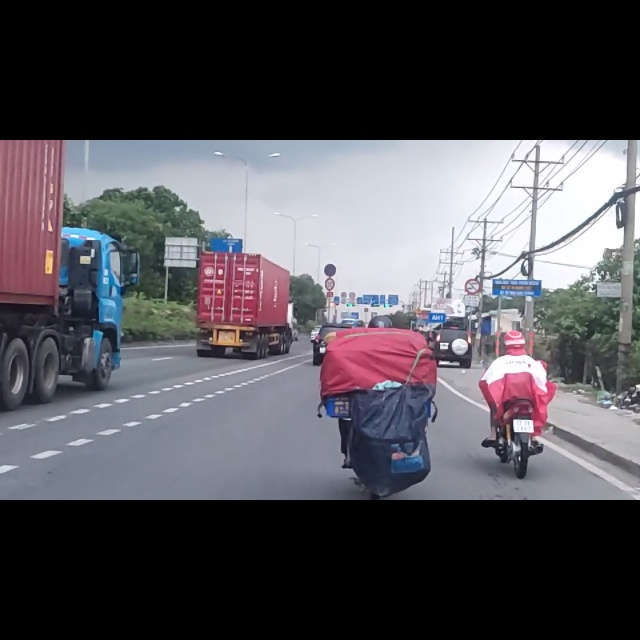bien_chi_dan: (465, 247, 480, 274), (323, 219, 338, 243), (325, 245, 335, 267)
